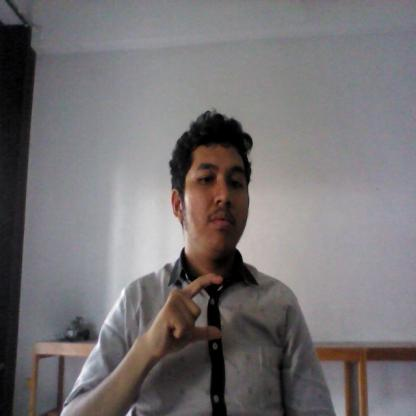C: (146, 270, 232, 365)
